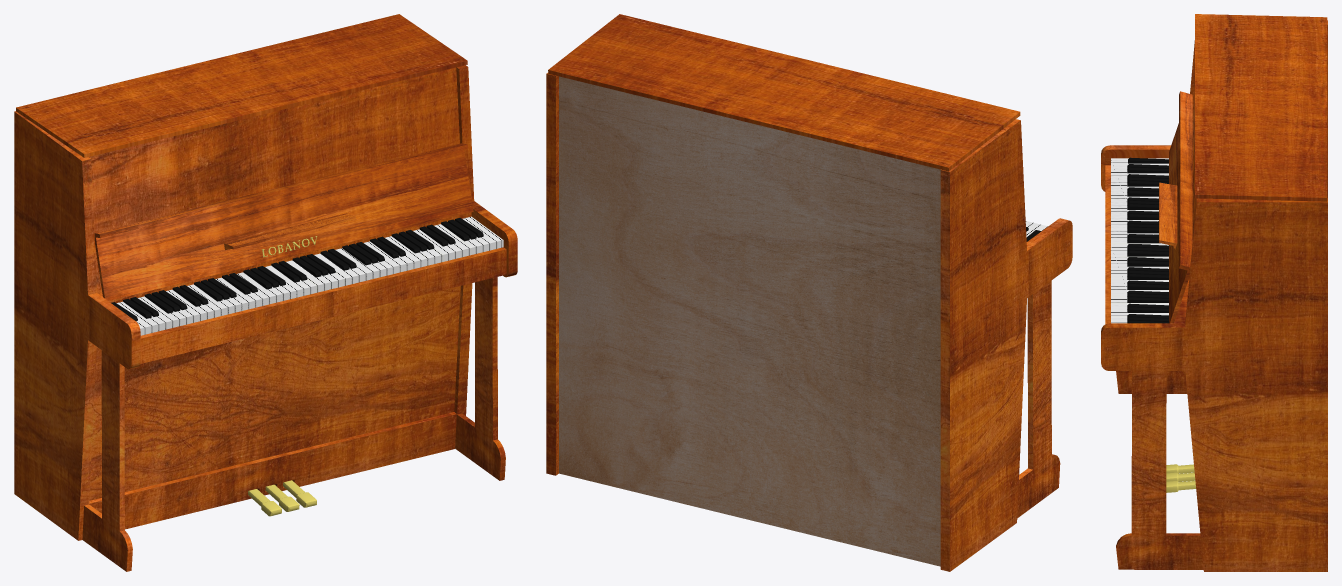
Rendered from Piano1.glb.
3 renders of one model, left to right at view 1: azimuth 30°, elevation 25°; view 2: azimuth 150°, elevation 25°; view 3: azimuth 270°, elevation 25°, orthographic. The views are drawn at different scales.
Parts seen in each view (by area): view 1: Cube_0, Cube.001_1, Cube.002_3, Cube.003_2; view 2: Cube_0, Cube.002_3; view 3: Cube_0, Cube.002_3, Cube.003_2, Cube.001_1.
Boxes of the visible parts, <box> form: Cube_0: <box>14,65,517,571</box>; Cube.001_1: <box>94,143,473,300</box>; Cube.002_3: <box>16,14,467,157</box>; Cube.003_2: <box>111,218,483,320</box>; Cube_0: <box>546,72,1072,571</box>; Cube.002_3: <box>548,14,1020,171</box>; Cube_0: <box>1101,20,1327,571</box>; Cube.002_3: <box>1195,14,1327,201</box>; Cube.003_2: <box>1127,157,1168,323</box>; Cube.001_1: <box>1159,91,1192,323</box>.
Bounding box in the file's own units: 3.24 × 3.14 × 1.71.
Materials: 5 (3 with a texture image).
